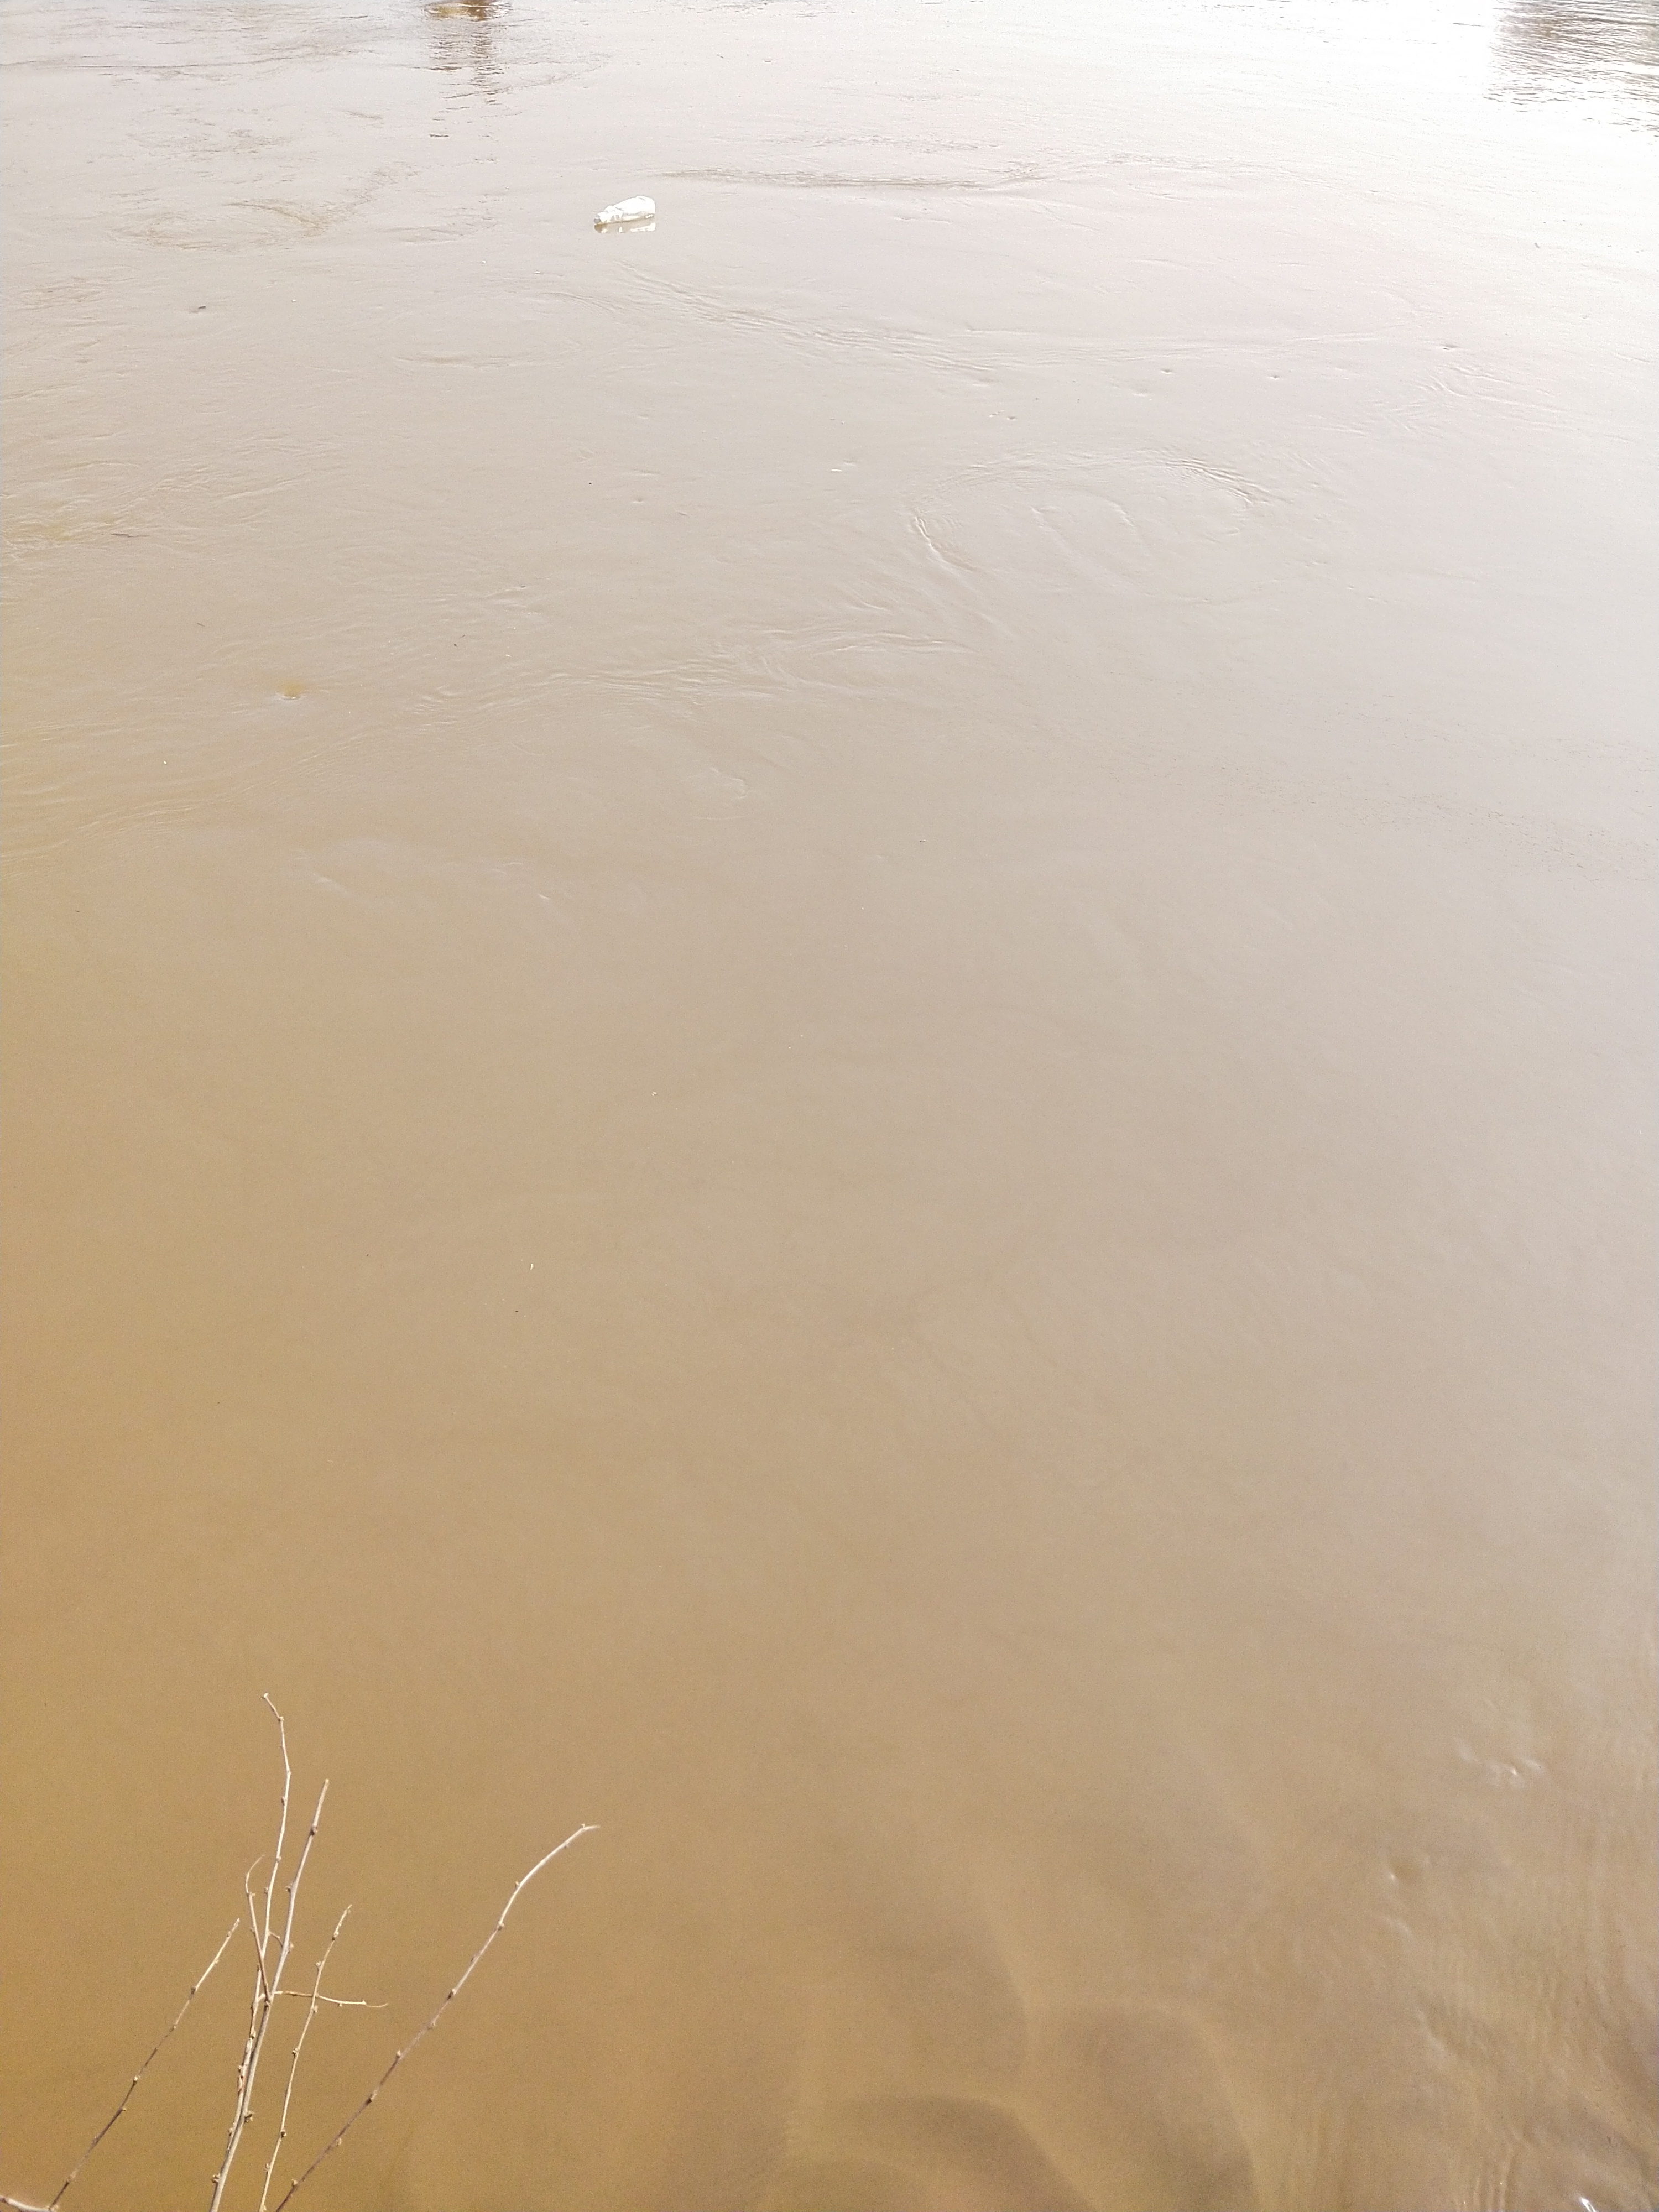Plastic Bottle: (594, 195, 655, 225)
